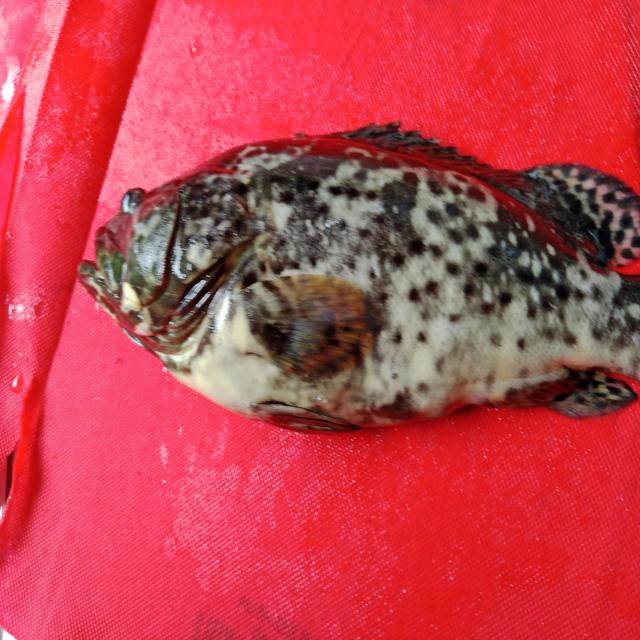ikan: (67, 106, 626, 446)
